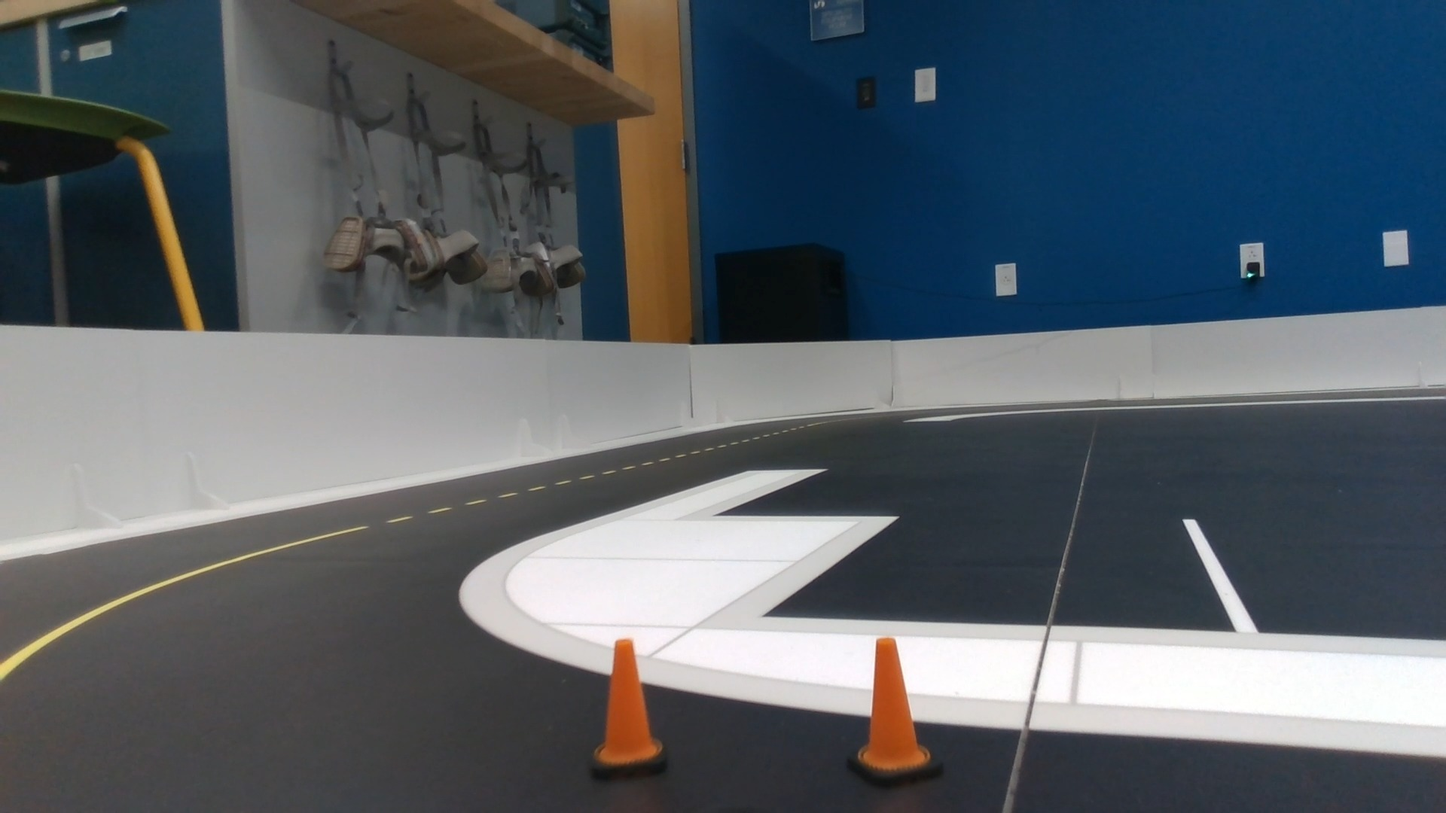Traffic Cone: (848, 638, 942, 785), (592, 639, 666, 778)
